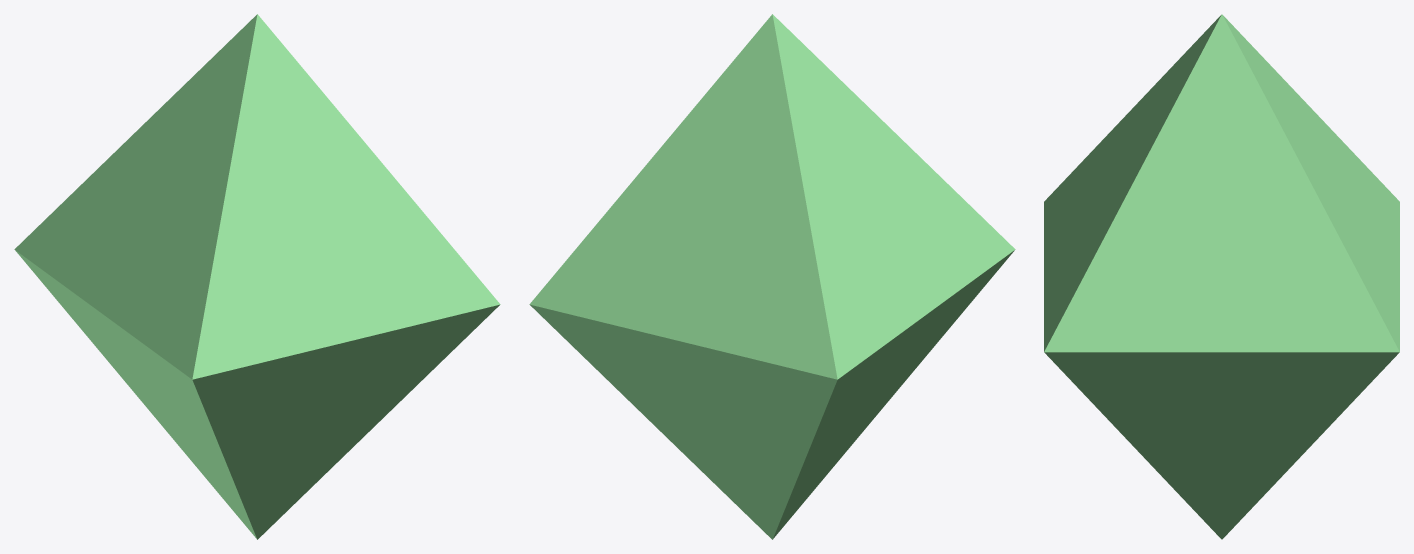
File: crystal.gltf
3 renders of one model, left to right at view 1: azimuth 30°, elevation 25°; view 2: azimuth 150°, elevation 25°; view 3: azimuth 270°, elevation 25°, orthographic.
Parts seen in each view (by area): view 1: Cube; view 2: Cube; view 3: Cube.
Part boxes in pixels (x1=…): Cube: x1=14, y1=14, x2=500, y2=539; Cube: x1=529, y1=14, x2=1015, y2=539; Cube: x1=1044, y1=14, x2=1399, y2=539.
Size of the model in its own units: 2.45 by 4 by 2.45.
